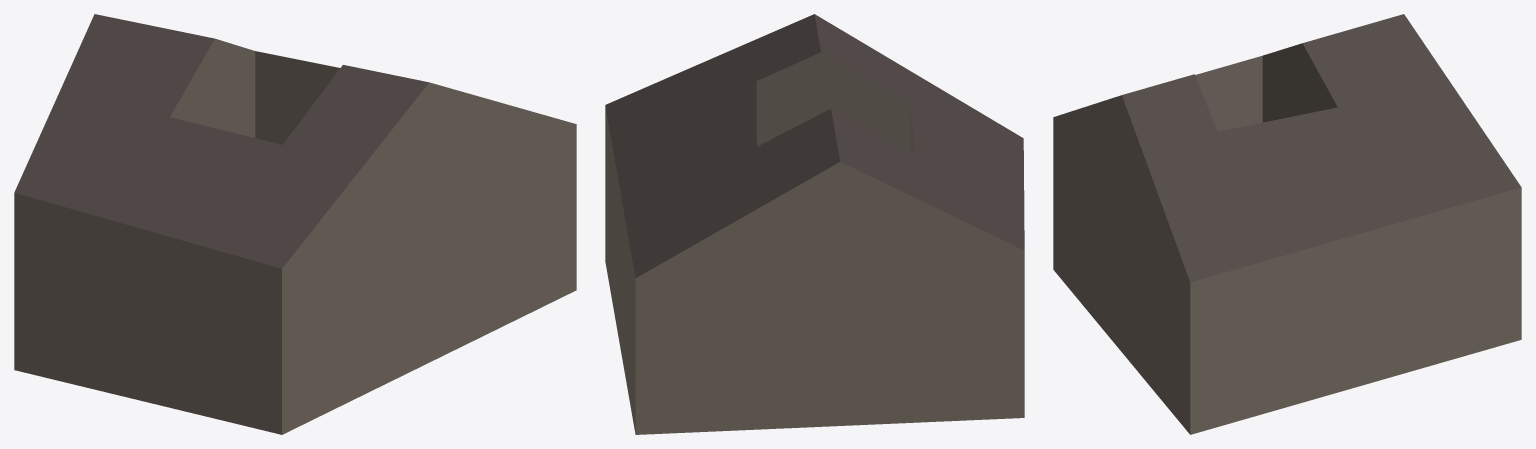
3 renders of one model, left to right at view 1: azimuth 30°, elevation 25°; view 2: azimuth 150°, elevation 25°; view 3: azimuth 270°, elevation 25°, orthographic. The views are drawn at different scales.
Visible parts, largest first — view 1: HP-r20675585; view 2: HP-r20675585; view 3: HP-r20675585.
Boxes of the visible parts, x1,y1,x2,y2 form: HP-r20675585: (14,14,576,434); HP-r20675585: (605,14,1024,434); HP-r20675585: (1053,14,1521,434).
Size of the model in its own units: 28.56 by 15.19 by 25.06.
